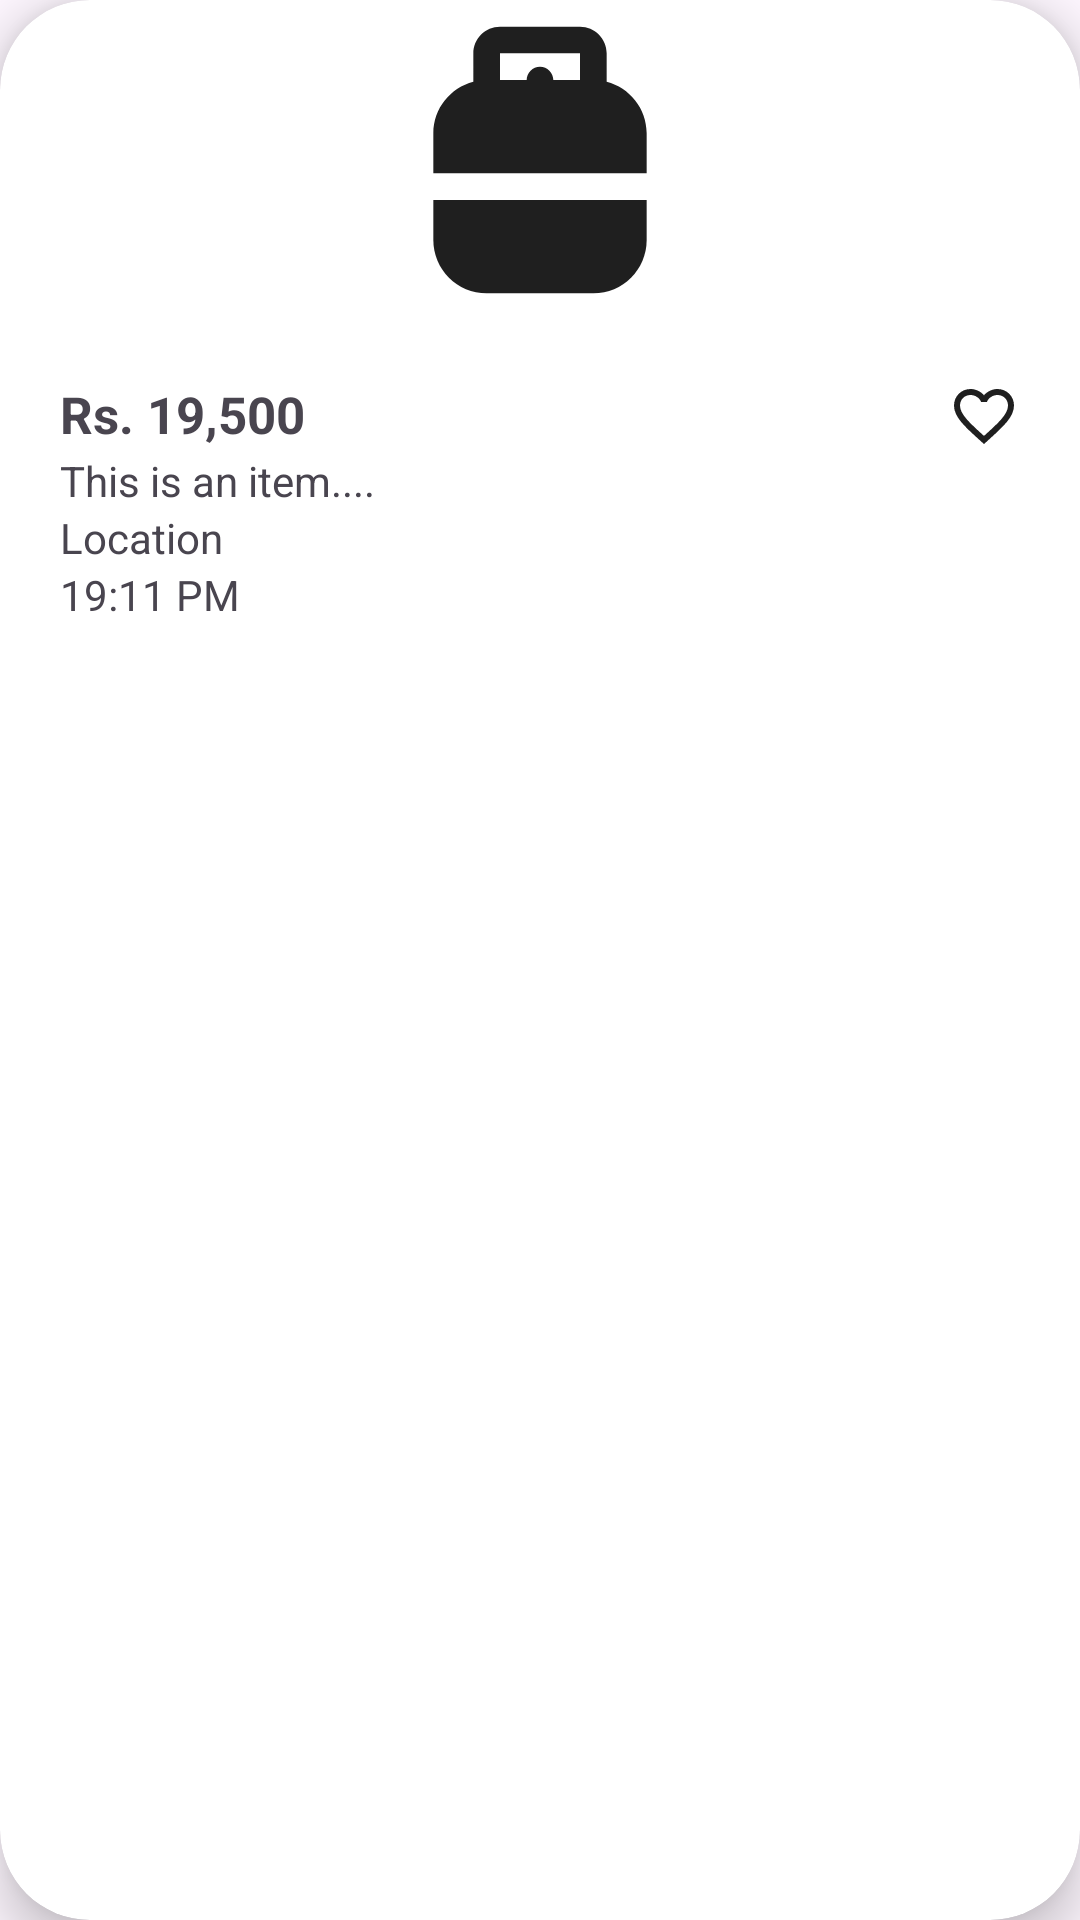

Icons on this 1080px x 1920px Android screen, each with its box as (x1, y1, x2, y2):
fav hollow: (954, 389, 1014, 444)
